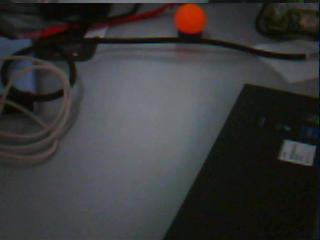oball: (175, 3, 207, 34)
